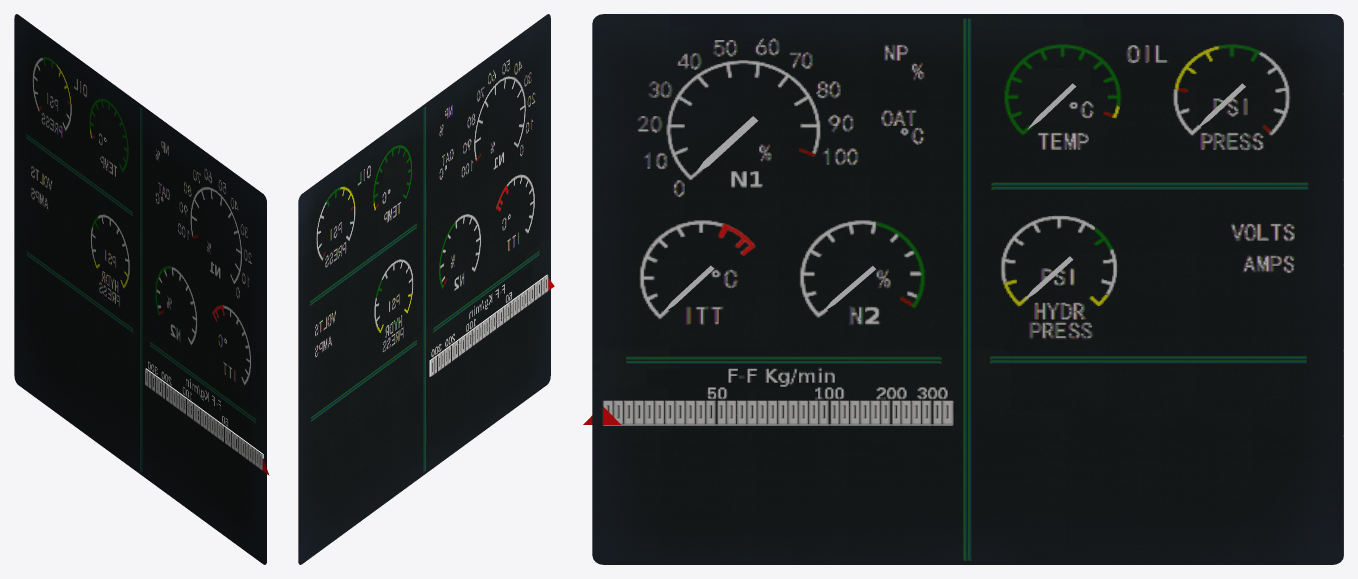
The model's file is mfd_eicas.fbx.
3 renders of one model, left to right at view 1: azimuth 30°, elevation 25°; view 2: azimuth 150°, elevation 25°; view 3: azimuth 270°, elevation 25°, orthographic. The views are drawn at different scales.
Parts seen in each view (by area): view 1: EICAS-ecran, EICAS-ff-fond; view 2: EICAS-ecran, EICAS-ff-fond; view 3: EICAS-ecran, EICAS-ff-fond.
Part boxes in pixels (x1,y1,x2,y2): EICAS-ecran: [14, 14, 266, 564]; EICAS-ff-fond: [145, 368, 262, 470]; EICAS-ecran: [298, 14, 550, 564]; EICAS-ff-fond: [430, 275, 548, 376]; EICAS-ecran: [592, 14, 1343, 564]; EICAS-ff-fond: [603, 400, 952, 424].
Size of the model in its own units: 0.0562 by 14.78 by 11.81.
1 material, 1 textured.
